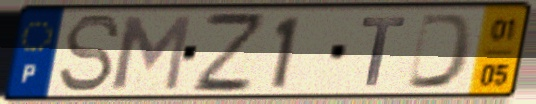1: (270, 13, 305, 92)
D: (403, 11, 479, 91)
M: (109, 13, 196, 93)
S: (55, 12, 125, 95)
T: (359, 14, 409, 89)
Z: (190, 10, 266, 96)
